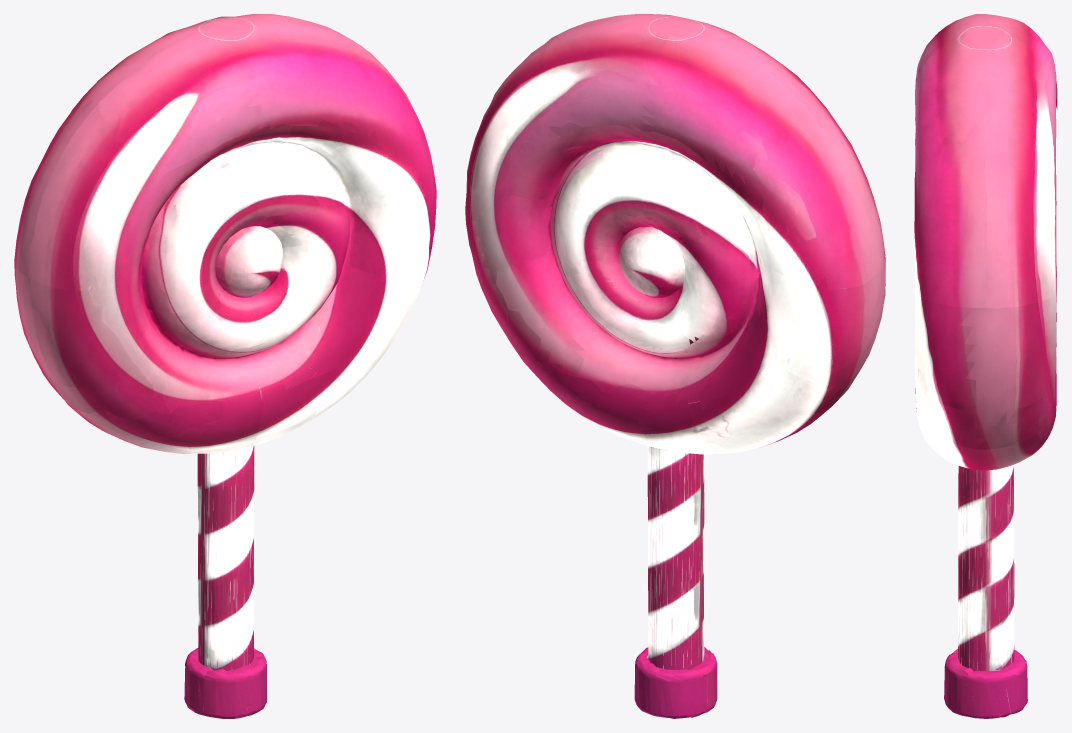
File: lollipop.glb
3 renders of one model, left to right at view 1: azimuth 30°, elevation 25°; view 2: azimuth 150°, elevation 25°; view 3: azimuth 270°, elevation 25°, orthographic.
Bounding box in the file's own units: 0.625 × 1 × 0.1953.
1 material, 1 textured.
